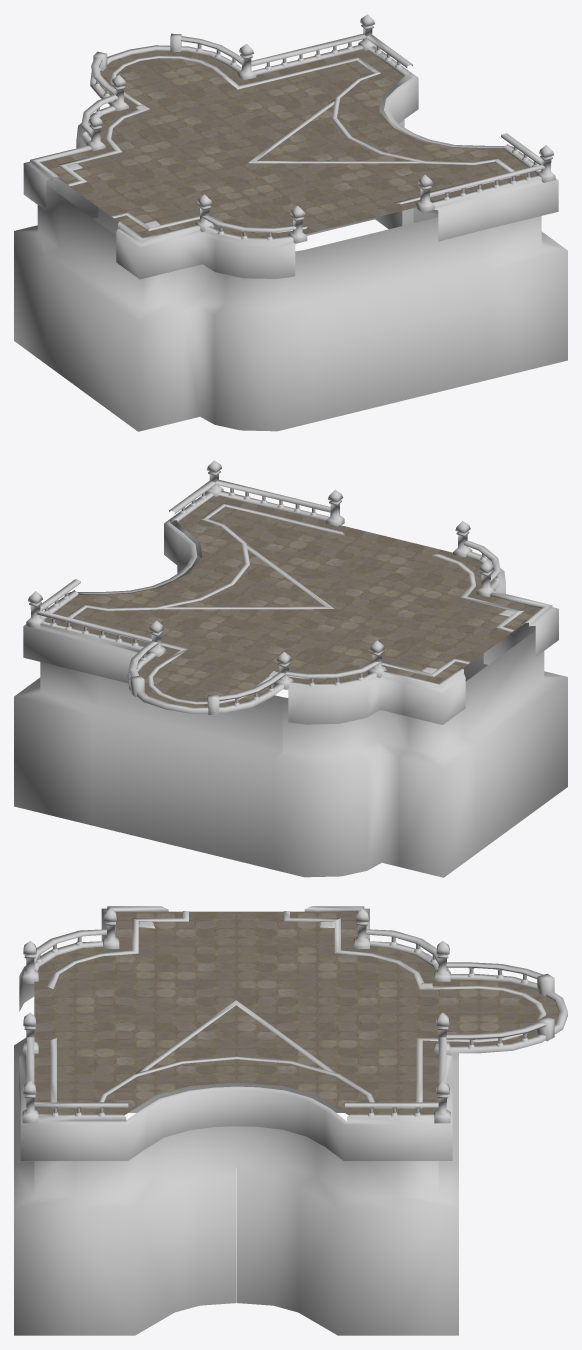
The model's file is t_pngtai03.FBX.
3 views of the same model, one above another, from view 1: azimuth 30°, elevation 25°; view 2: azimuth 150°, elevation 25°; view 3: azimuth 270°, elevation 25° (orthographic). The views are drawn at different scales.
Visible parts, largest first — view 1: t_pngtai03_qiang, t_pngtai03_dimian; view 2: t_pngtai03_qiang, t_pngtai03_dimian; view 3: t_pngtai03_qiang, t_pngtai03_dimian.
Part boxes in pixels (x1,y1,x2,y2): t_pngtai03_qiang: [14, 14, 567, 431]; t_pngtai03_dimian: [40, 49, 536, 237]; t_pngtai03_qiang: [14, 460, 567, 877]; t_pngtai03_dimian: [45, 495, 541, 707]; t_pngtai03_qiang: [14, 906, 567, 1335]; t_pngtai03_dimian: [34, 911, 559, 1115].
Bounding box in the file's own units: 3934 × 2034 × 4137.
